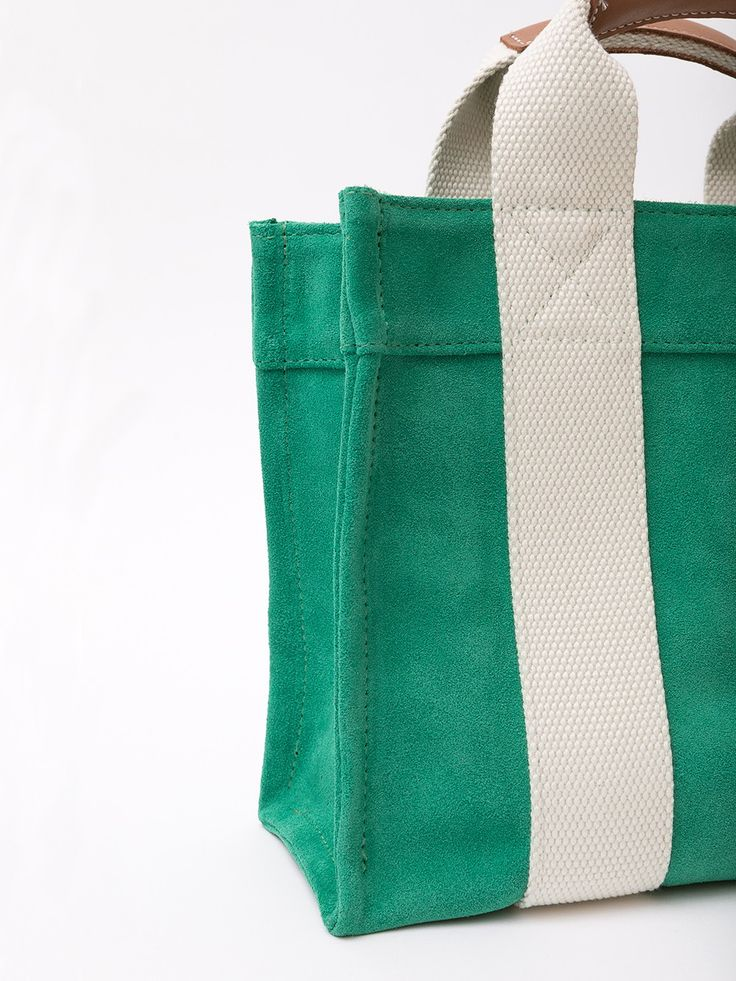nylon: (245, 1, 736, 941)
